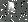person: (8, 4, 17, 18)
